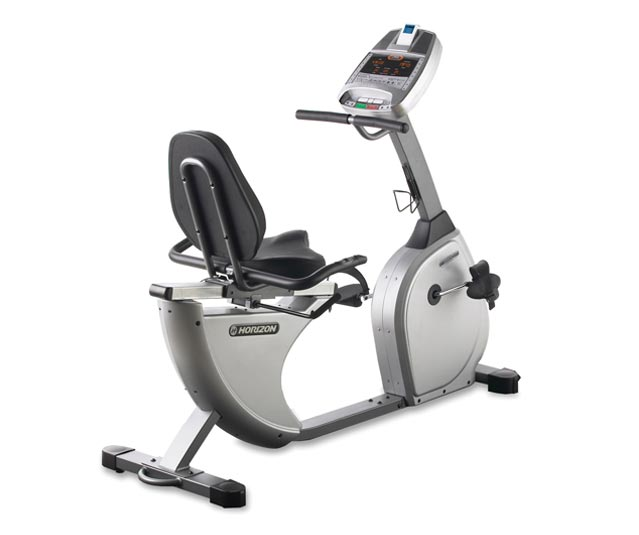gym_bike: (102, 31, 524, 508)
